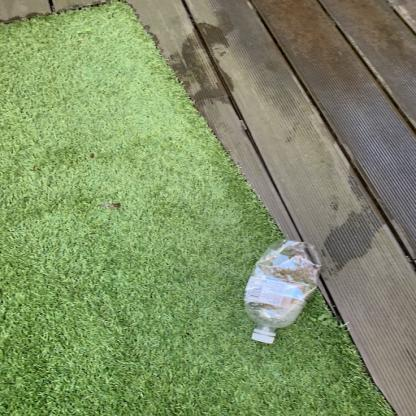trash: (240, 237, 323, 345)
